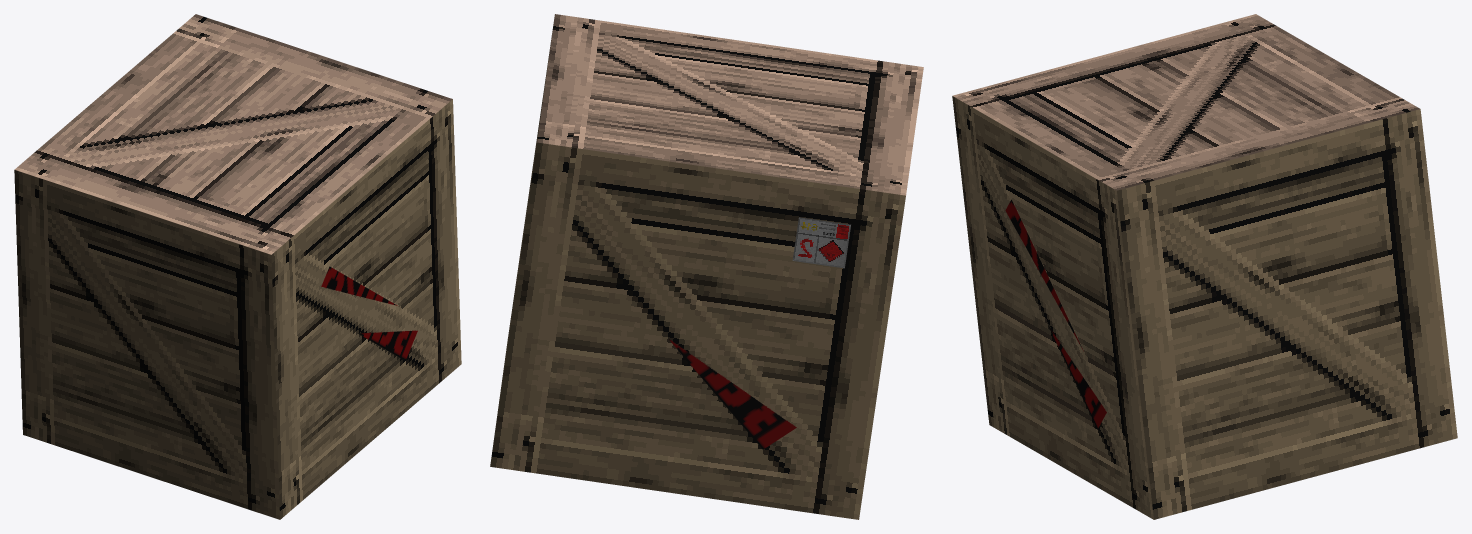
The model's file is dam_wooden_crate_3.glb.
The picture shows the model from 3 angles, left to right: view 1: azimuth 30°, elevation 25°; view 2: azimuth 150°, elevation 25°; view 3: azimuth 270°, elevation 25°; orthographic projection. The views are drawn at different scales.
Parts seen in each view (by area): view 1: Object; view 2: Object; view 3: Object.
Boxes of the visible parts, box(x1,y1,x2,y2) form: Object: box(14, 14, 461, 519); Object: box(490, 14, 923, 519); Object: box(952, 14, 1457, 519).
Size of the model in its own units: 1.45 by 1.17 by 1.43.
7 materials, 7 textured.
